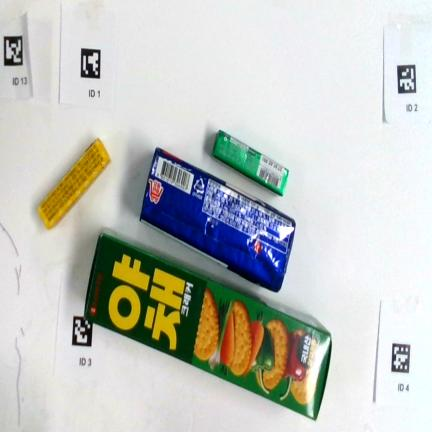cracker_ace: (139, 147, 296, 293)
cracker_vege: (83, 225, 332, 421)
gum_green: (211, 129, 289, 198)
gum_yellow: (36, 138, 110, 231)
